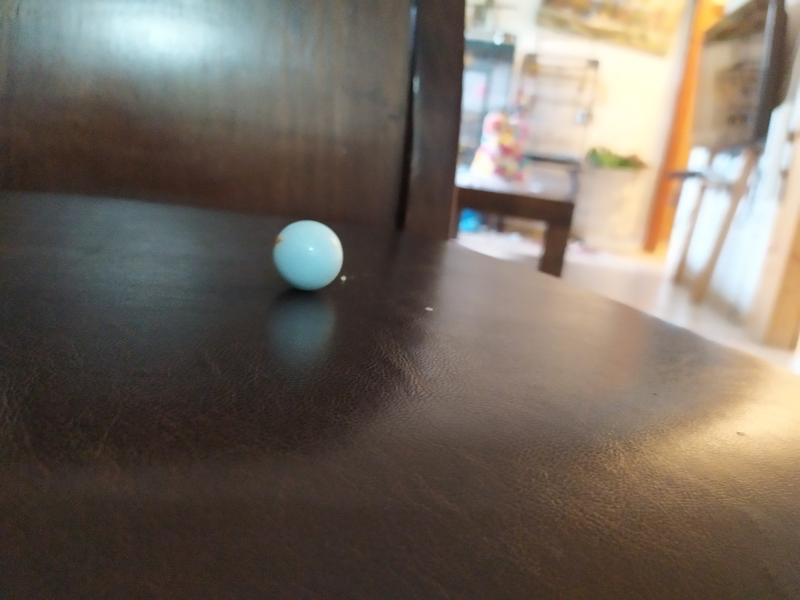Warning: (269, 217, 347, 294)
